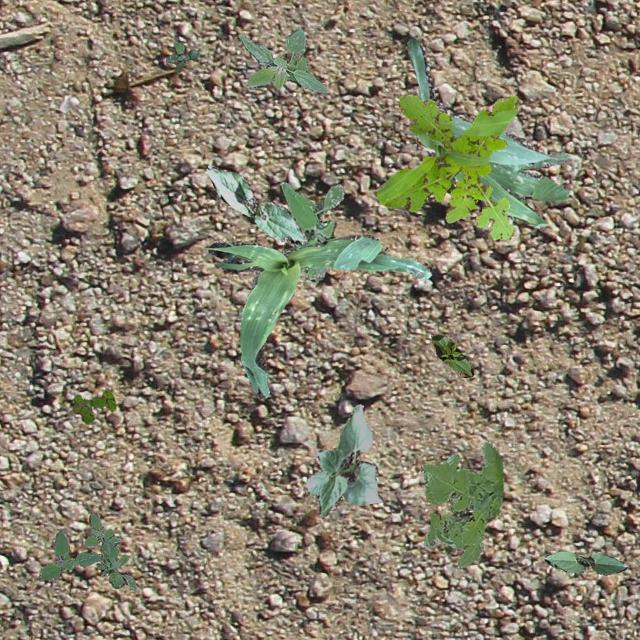crop: (208, 234, 430, 398), (406, 36, 570, 226), (304, 404, 381, 516), (206, 164, 306, 244), (544, 550, 626, 574), (430, 332, 472, 377)
weed: (376, 94, 518, 240), (419, 440, 502, 568), (37, 510, 135, 590), (280, 182, 342, 280), (238, 28, 328, 94), (72, 388, 116, 422), (164, 40, 200, 72)
